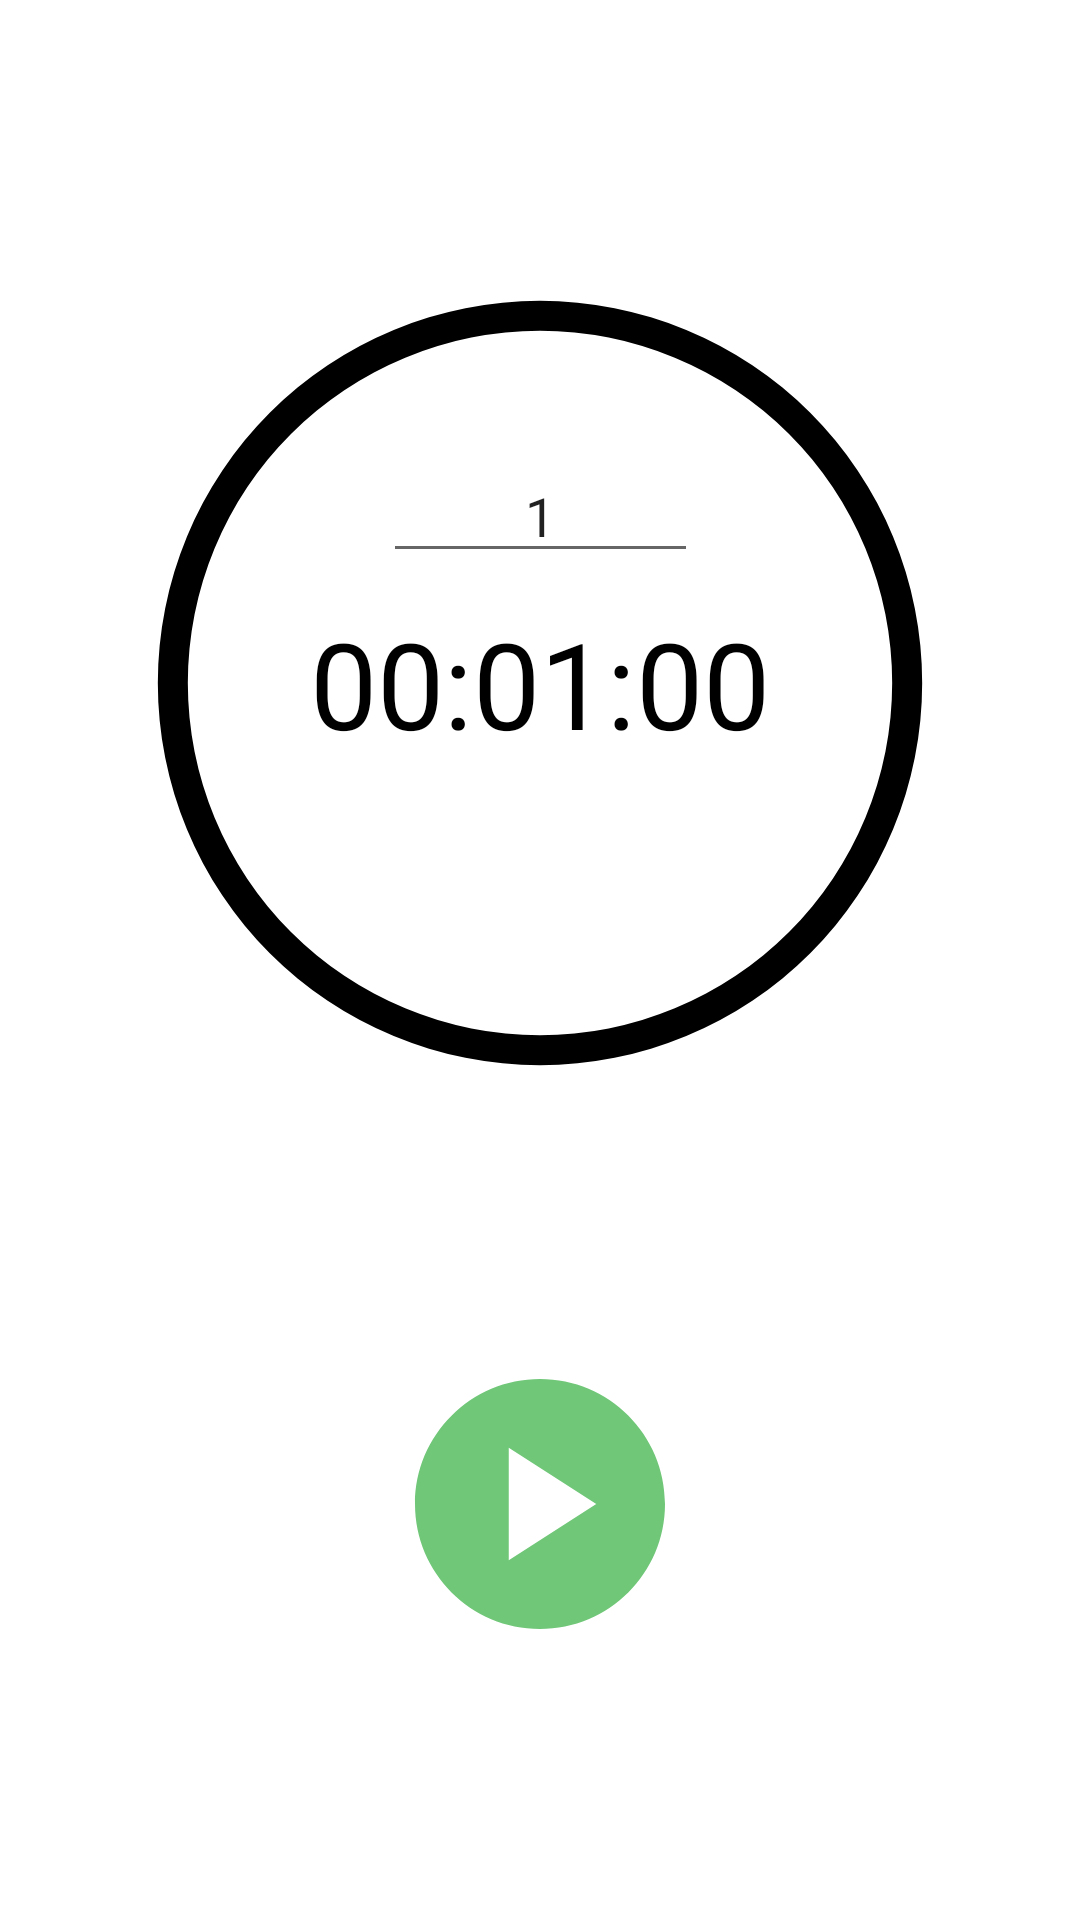

Where icons sit on this 1080×1920 app screen, as bbox(x1, y1, x2, y2):
play circle: bbox(415, 1379, 665, 1629)
